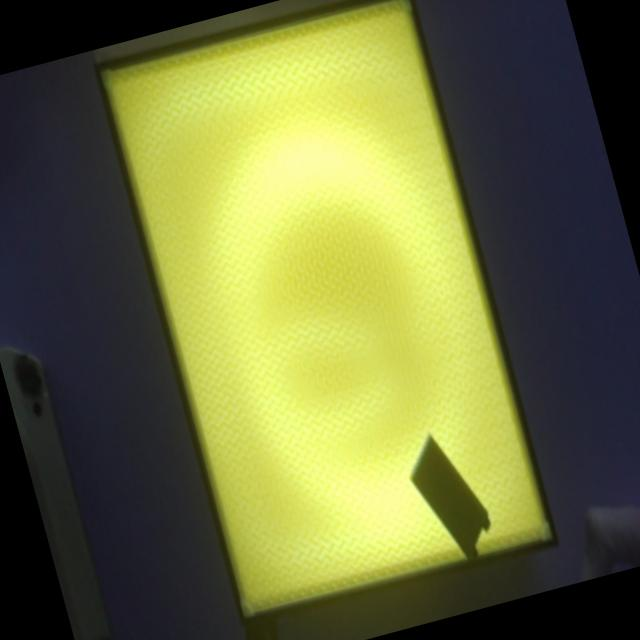bateria: (409, 433, 490, 562)
mesa: (90, 0, 560, 629)
